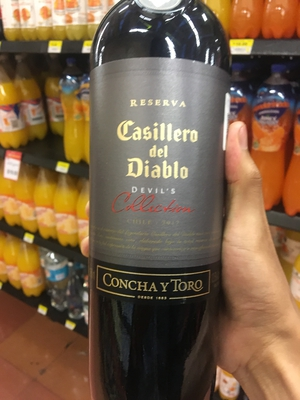casillero del diablo devils collection rojo: (83, 9, 251, 397)
